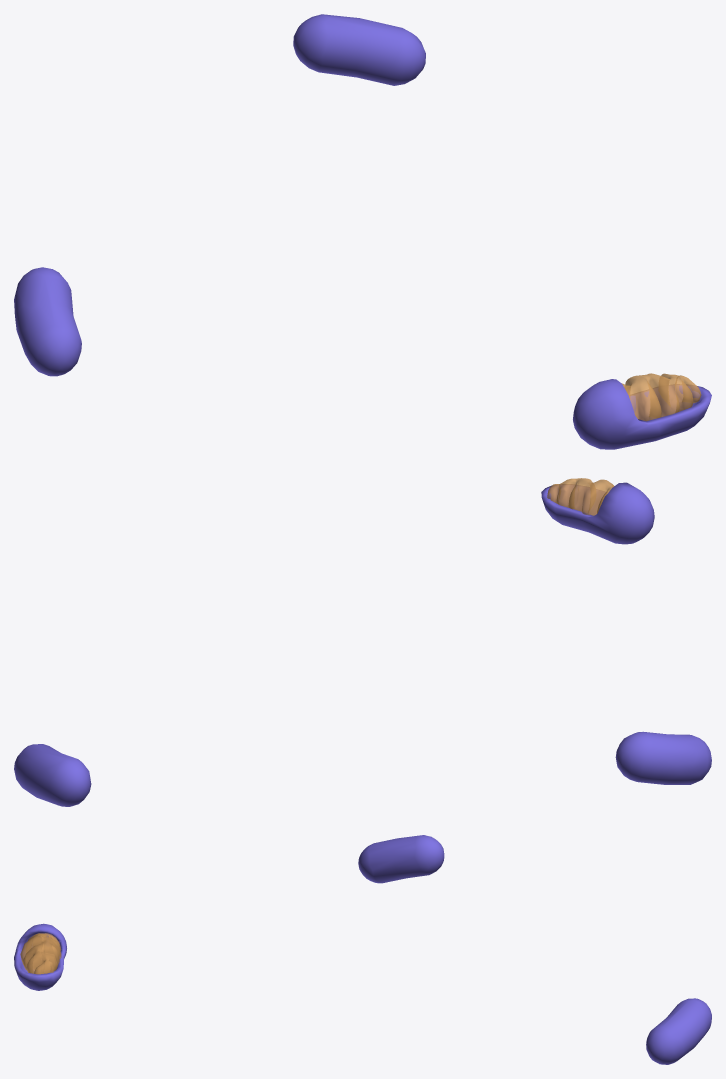
File: Mitochondria.glb
3 renders of one model, top to bottom at view 1: azimuth 30°, elevation 25°; view 2: azimuth 150°, elevation 25°; view 3: azimuth 270°, elevation 25°, orthographic. The views are drawn at different scales.
Parts seen in each view (by area): view 1: Sphere.002, Sphere.005; view 2: Sphere.002, Sphere.005; view 3: Sphere.002, Sphere.005.
Part boxes in pixels (x1,y1,x2,y2): Sphere.002: [14, 14, 711, 449]; Sphere.005: [621, 373, 701, 421]; Sphere.002: [14, 482, 711, 806]; Sphere.005: [547, 478, 614, 515]; Sphere.002: [14, 835, 711, 1064]; Sphere.005: [20, 933, 61, 974].
Size of the model in its own units: 4.17 by 0.5985 by 6.06.
